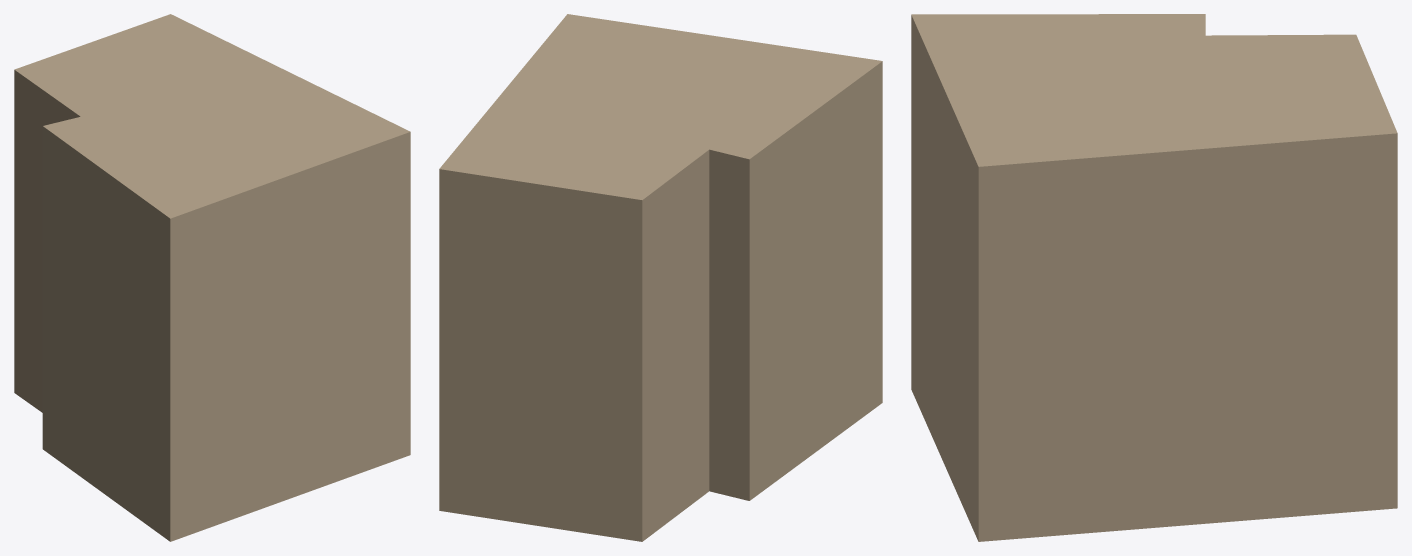
Rendered from bld_99020410.dae.
3 renders of one model, left to right at view 1: azimuth 30°, elevation 25°; view 2: azimuth 150°, elevation 25°; view 3: azimuth 270°, elevation 25°, orthographic. The views are drawn at different scales.
Visible parts, largest first — view 1: bld_99020410; view 2: bld_99020410; view 3: bld_99020410.
Boxes of the visible parts, left/top/right/bottom form: bld_99020410: left=14, top=14, right=410, bottom=541; bld_99020410: left=439, top=14, right=882, bottom=541; bld_99020410: left=911, top=14, right=1397, bottom=541.
Size of the model in its own units: 6.99 by 9.4 by 8.
